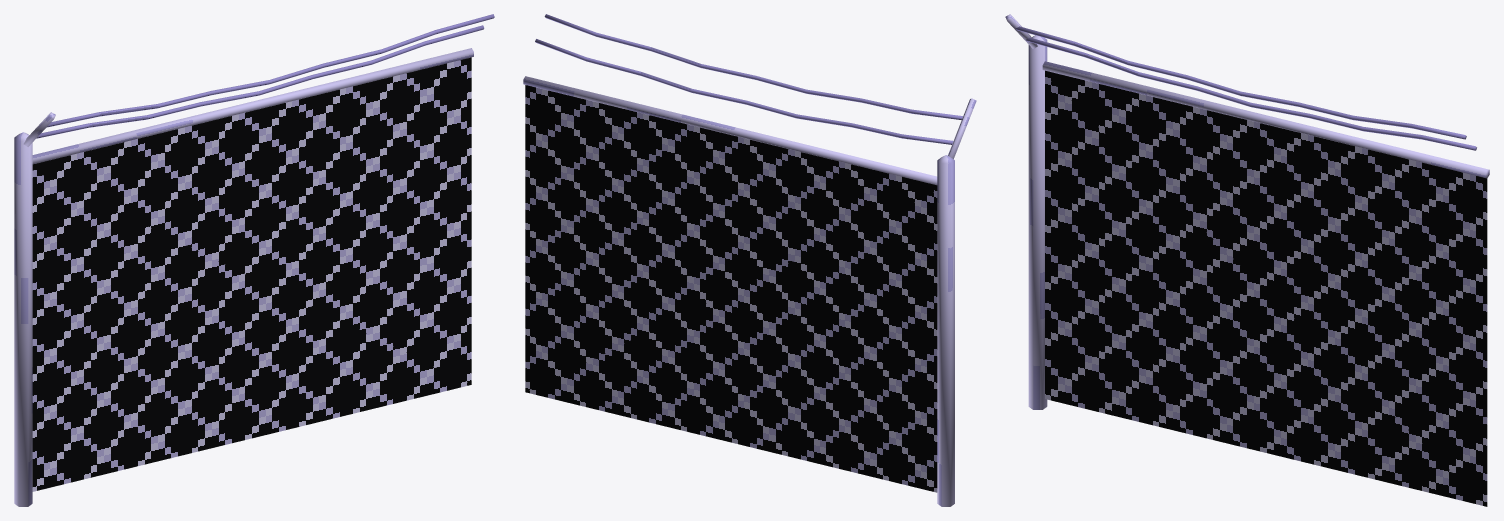
Rendered from Chainlink Fence.fbx.
The picture shows the model from 3 angles, left to right: view 1: azimuth 30°, elevation 25°; view 2: azimuth 150°, elevation 25°; view 3: azimuth 330°, elevation 25°; orthographic projection. The views are drawn at different scales.
Visible parts, largest first — view 1: Chainlink Fence mesh, Chainlink Fence post, Chainlink Fence top rail, Chainlink Fence barbed 1, Chainlink Fence barbed 0; view 2: Chainlink Fence mesh, Chainlink Fence post, Chainlink Fence top rail, Chainlink Fence barbed 1, Chainlink Fence barbed 0; view 3: Chainlink Fence mesh, Chainlink Fence post, Chainlink Fence top rail, Chainlink Fence barbed 1, Chainlink Fence barbed 0.
Part boxes in pixels (bbox=[...]): Chainlink Fence mesh: bbox=[32, 57, 471, 491]; Chainlink Fence post: bbox=[14, 132, 32, 506]; Chainlink Fence top rail: bbox=[32, 48, 473, 164]; Chainlink Fence barbed 1: bbox=[46, 14, 494, 127]; Chainlink Fence barbed 0: bbox=[36, 25, 484, 138]; Chainlink Fence mesh: bbox=[525, 85, 937, 492]; Chainlink Fence post: bbox=[937, 155, 954, 506]; Chainlink Fence top rail: bbox=[523, 76, 937, 185]; Chainlink Fence barbed 1: bbox=[544, 14, 962, 119]; Chainlink Fence barbed 0: bbox=[535, 39, 953, 144]; Chainlink Fence mesh: bbox=[1045, 70, 1487, 506]; Chainlink Fence post: bbox=[1028, 35, 1047, 409]; Chainlink Fence top rail: bbox=[1042, 61, 1489, 178]; Chainlink Fence barbed 1: bbox=[1015, 26, 1466, 139]; Chainlink Fence barbed 0: bbox=[1026, 37, 1476, 150].
Bounding box in the file's own units: 2.54 × 2.19 × 0.3391.
Materials: 3 (3 with a texture image).
